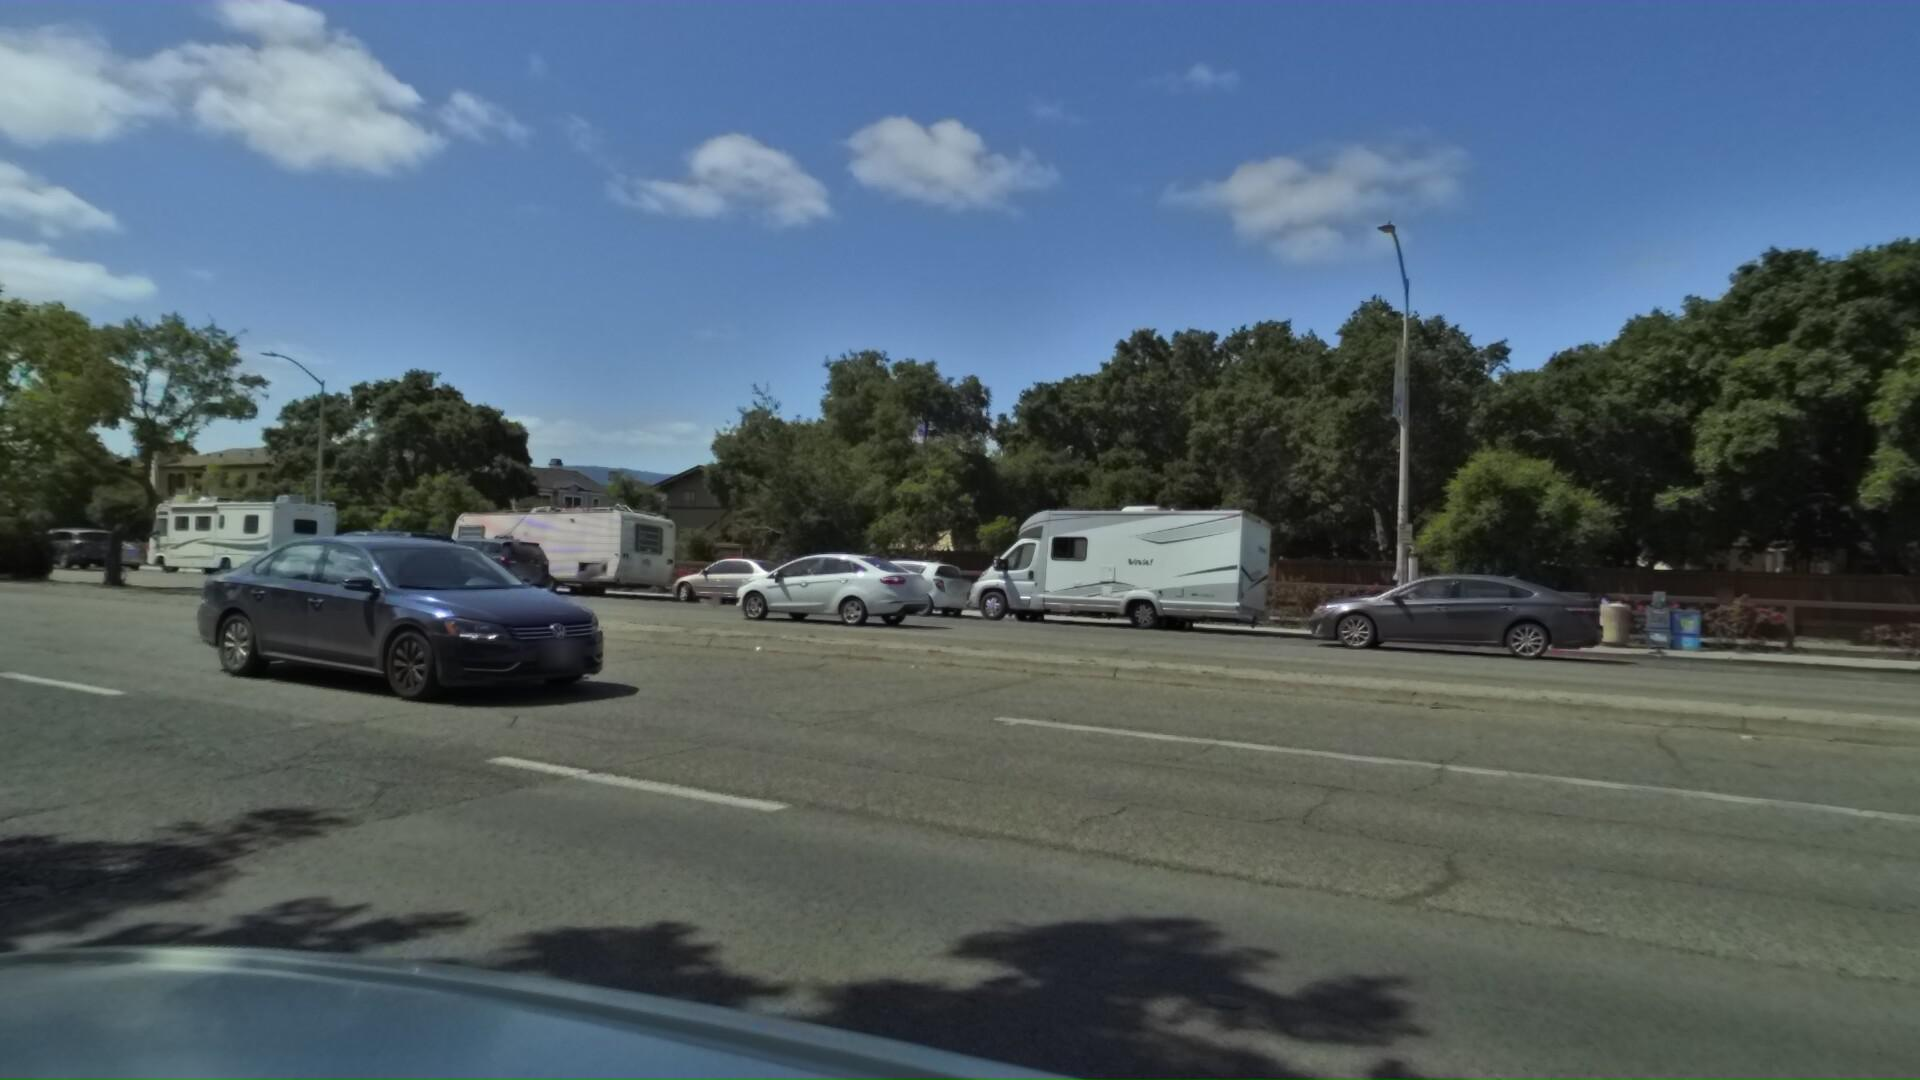car: (179, 518, 644, 717), (1271, 563, 1553, 663), (676, 545, 889, 628), (285, 522, 462, 599), (822, 551, 977, 618), (393, 533, 551, 596), (663, 550, 814, 611), (26, 524, 131, 564), (62, 533, 156, 574)
other_vehicle: (949, 495, 1278, 640), (440, 495, 690, 600), (144, 484, 349, 589)
